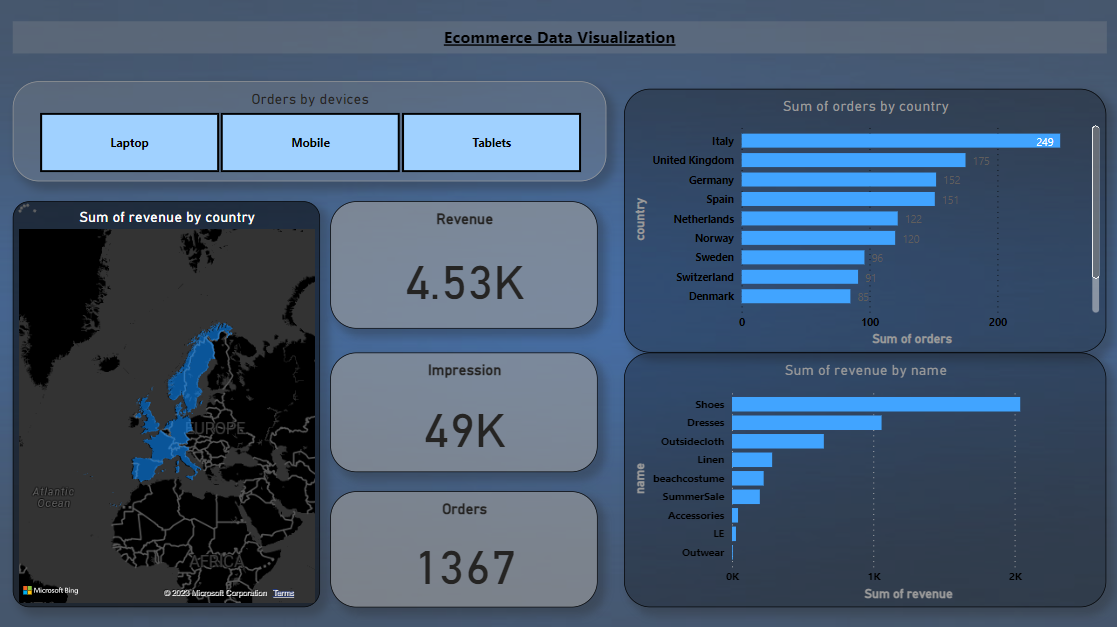

The dashboard page shown, as its layout file describes it:
{"tool":"powerbi","page":{"name":"Page 1","canvas":[1280,720],"ordinal":0},"visuals":[{"type":"clusteredBarChart","fields":{"Category":["Sheet7.country"],"Y":["Sum(Sheet7.orders)"]},"box":[728.6,31.6,551.6,301.9],"z":0},{"type":"slicer","title":"Orders by devices","fields":{"Values":["Sheet7.device"]},"box":[26.1,31.6,693,113.9],"z":1000},{"type":"filledMap","fields":{"Category":["Sheet7.country"]},"box":[26.1,157.8,351.3,536.5],"z":2000},{"type":"card","title":"Revenue","fields":{"Values":["Sum(Sheet7.revenue)"]},"box":[397.9,157.8,306,163.3],"z":3000},{"type":"clusteredBarChart","fields":{"Category":["Sheet7.name"],"Y":["Sum(Sheet7.revenue)"]},"box":[728.6,387,551.6,307.4],"z":3001},{"type":"card","title":"Impression","fields":{"Values":["Sum(Sheet7.impression)"]},"box":[399.3,347.2,306,159.2],"z":3002},{"type":"card","title":"Orders","fields":{"Values":["Sum(Sheet7.orders)"]},"box":[397.9,535.2,306,159.2],"z":3003}]}

Visuals, with their boxes in screenshot pixels (x1, y1, x2, y2), scaled from the page's 1280x720 canvas onto the 1117x627 screenshot:
clusteredBarChart - Sheet7.country x Sum(Sheet7.orders): [x1=636, y1=28, x2=1116, y2=290]
"Orders by devices" slicer: [x1=23, y1=28, x2=628, y2=127]
filledMap - Sheet7.country: [x1=23, y1=137, x2=329, y2=605]
"Revenue" card: [x1=347, y1=137, x2=614, y2=280]
clusteredBarChart - Sheet7.name x Sum(Sheet7.revenue): [x1=636, y1=337, x2=1116, y2=605]
"Impression" card: [x1=348, y1=302, x2=615, y2=441]
"Orders" card: [x1=347, y1=466, x2=614, y2=605]
